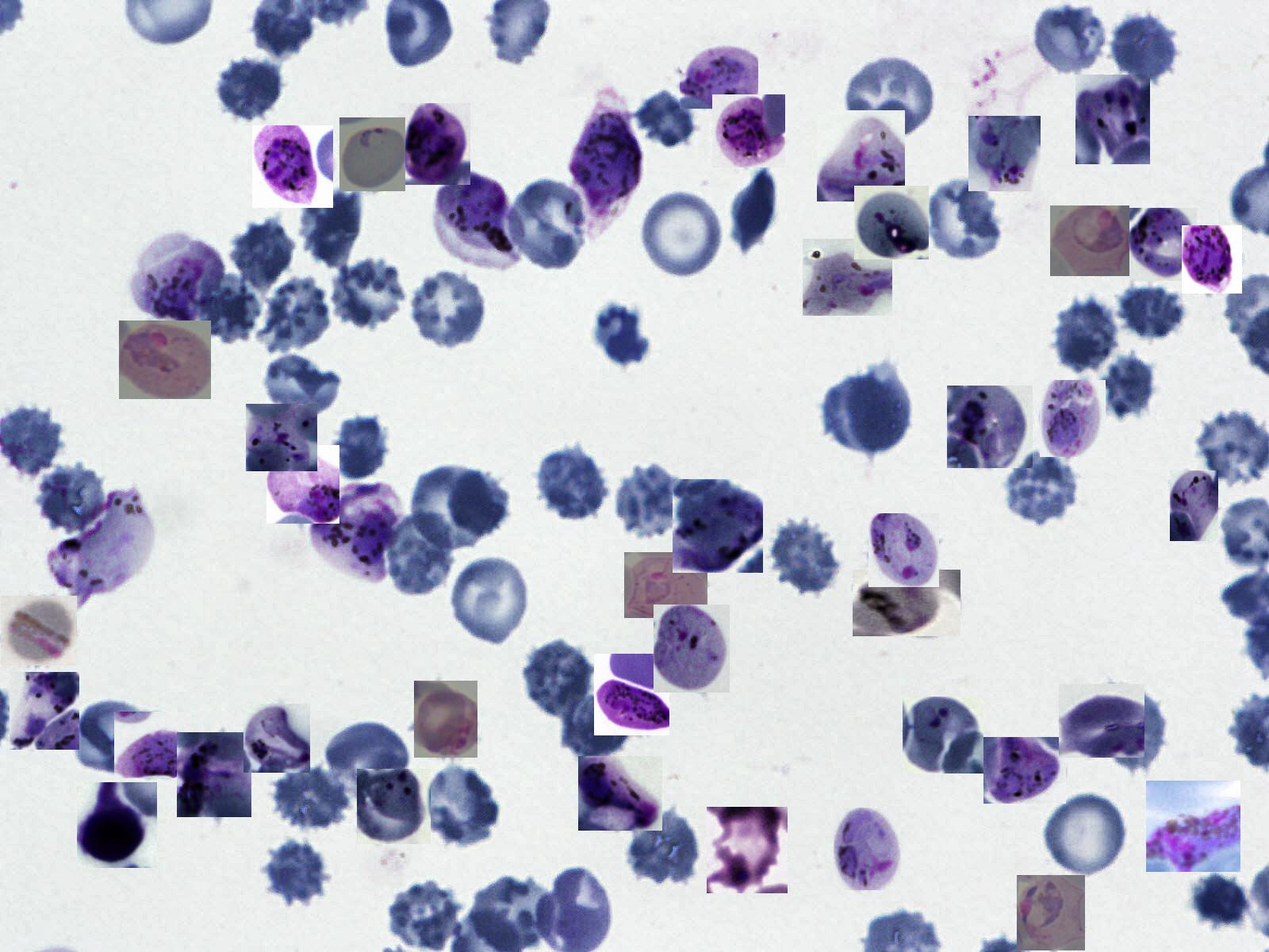Infected: (44, 486, 155, 595), (569, 83, 643, 237), (305, 476, 403, 582), (431, 172, 525, 274), (128, 230, 223, 322), (1146, 781, 1240, 872), (673, 479, 763, 573), (817, 110, 905, 202), (119, 321, 211, 400), (853, 570, 960, 636), (947, 386, 1033, 468), (707, 807, 788, 893), (77, 782, 157, 868), (803, 239, 892, 316), (252, 125, 333, 208), (654, 605, 730, 693), (1075, 75, 1150, 164), (578, 756, 662, 831), (177, 732, 251, 817), (1059, 684, 1144, 758), (903, 697, 983, 774), (594, 654, 669, 735), (398, 104, 470, 186), (680, 34, 758, 109), (266, 445, 339, 524), (1050, 205, 1129, 276), (983, 737, 1066, 804), (357, 769, 431, 844), (834, 808, 901, 890), (625, 552, 708, 618), (854, 186, 929, 259), (968, 116, 1041, 191), (10, 672, 79, 750), (713, 94, 786, 167), (1, 596, 77, 666), (868, 513, 939, 587), (1017, 875, 1085, 950), (114, 712, 191, 778), (1040, 380, 1106, 457), (1129, 208, 1197, 281), (339, 117, 405, 191), (414, 681, 477, 758), (246, 404, 317, 471), (243, 704, 310, 773), (1182, 225, 1242, 294), (1170, 470, 1218, 541)
Uninfected: (819, 360, 912, 455), (844, 56, 938, 141), (448, 553, 533, 647), (506, 178, 591, 272), (640, 188, 725, 281), (413, 463, 508, 545), (323, 717, 411, 805), (1044, 793, 1132, 878), (924, 176, 1009, 263), (418, 765, 504, 849), (406, 267, 492, 349), (383, 509, 457, 600), (1095, 682, 1168, 770), (611, 459, 690, 540), (519, 637, 595, 721), (327, 255, 408, 332), (270, 758, 355, 830), (1003, 452, 1082, 528), (767, 517, 842, 594), (258, 274, 328, 356), (1047, 298, 1122, 374), (535, 447, 608, 524), (1109, 8, 1181, 86), (262, 831, 335, 907), (627, 807, 698, 885), (230, 215, 295, 298), (1033, 5, 1111, 74), (194, 266, 263, 344), (387, 879, 462, 950), (75, 700, 145, 776), (36, 459, 105, 536), (556, 693, 634, 761), (301, 180, 363, 265), (1114, 277, 1192, 342), (212, 55, 286, 121), (264, 357, 348, 412), (332, 411, 390, 481), (1100, 350, 1158, 420), (635, 86, 698, 150), (728, 169, 778, 249), (1189, 869, 1252, 927), (593, 301, 648, 367)
